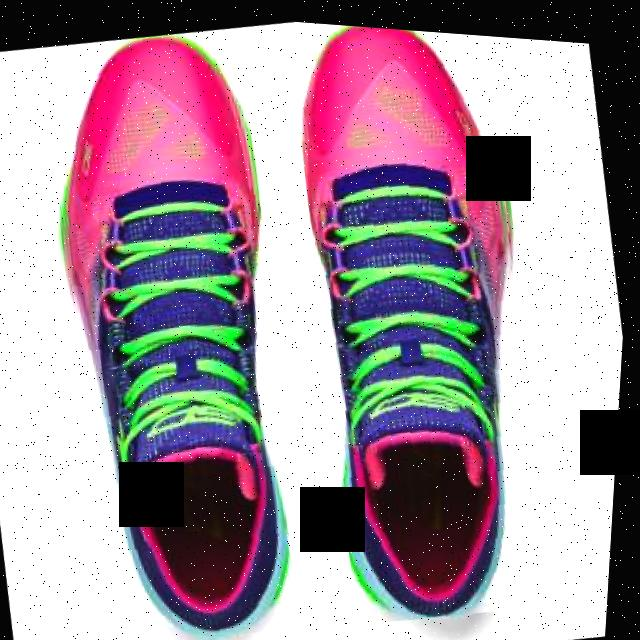shoe: (14, 13, 344, 640), (259, 17, 591, 629)
